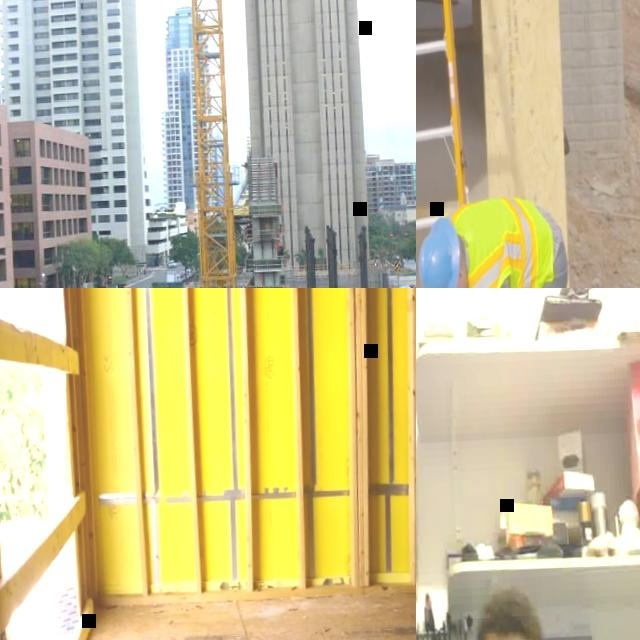Hardhat: (416, 216, 463, 288)
NO-Hardhat: (483, 589, 543, 640)
NO-Mask: (456, 283, 467, 288)
Person: (416, 474, 640, 640), (416, 192, 580, 288)
Safety Vest: (453, 194, 558, 288)
